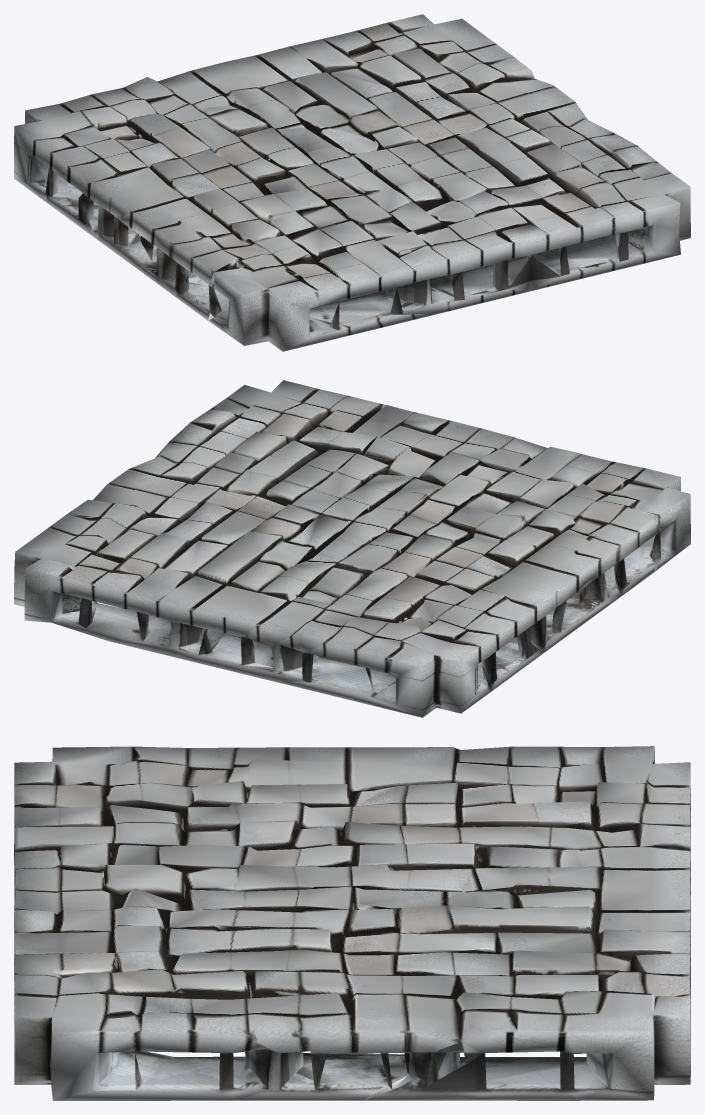
File: road_corner.glb
3 views of the same model, one above another, from view 1: azimuth 30°, elevation 25°; view 2: azimuth 150°, elevation 25°; view 3: azimuth 270°, elevation 25° (orthographic). The views are drawn at different scales.
Parts seen in each view (by area): view 1: Mesh_0; view 2: Mesh_0; view 3: Mesh_0.
Boxes of the visible parts, <box> form: Mesh_0: <box>14,14,690,351</box>; Mesh_0: <box>14,380,690,717</box>; Mesh_0: <box>14,746,690,1100</box>.
Bounding box in the file's own units: 1.18 × 0.144 × 1.17.
Materials: 1 (1 with a texture image).
